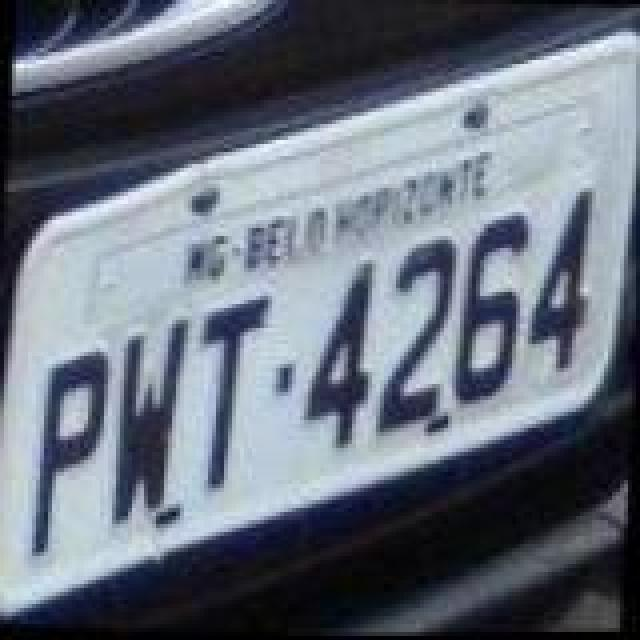2: (376, 232, 460, 440)
4: (304, 256, 380, 456), (522, 186, 594, 378)
6: (456, 204, 532, 408)
P: (28, 342, 112, 562)
T: (188, 288, 272, 492)
W: (110, 310, 190, 534)
